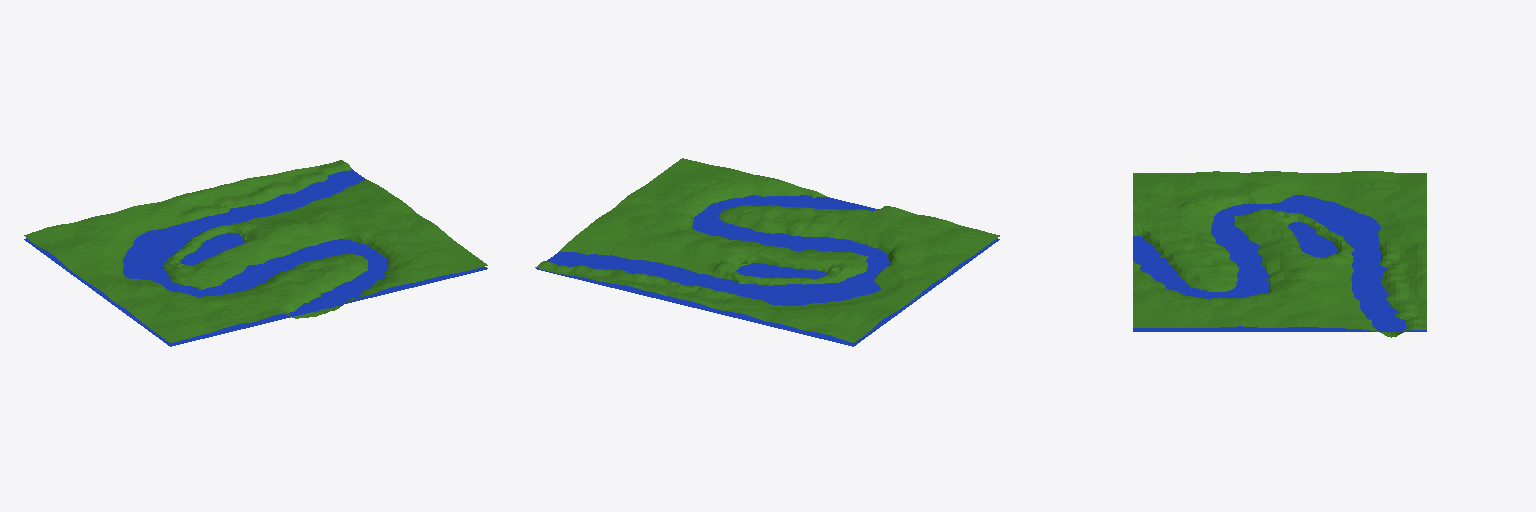
Rendered from river_terrain.obj.
The picture shows the model from 3 angles: view 1: azimuth 30°, elevation 25°; view 2: azimuth 150°, elevation 25°; view 3: azimuth 270°, elevation 25°; orthographic projection.
Parts seen in each view (by area): view 1: ground_Plane, water_Plane.001; view 2: ground_Plane, water_Plane.001; view 3: ground_Plane, water_Plane.001.
Boxes of the visible parts, box(x1,y1,x2,y2) form: ground_Plane: box(24, 160, 487, 342); water_Plane.001: box(24, 170, 487, 346); ground_Plane: box(535, 158, 999, 342); water_Plane.001: box(536, 195, 999, 346); ground_Plane: box(1133, 171, 1426, 337); water_Plane.001: box(1133, 195, 1426, 331).
Bounding box in the file's own units: 100 × 5.63 × 80.